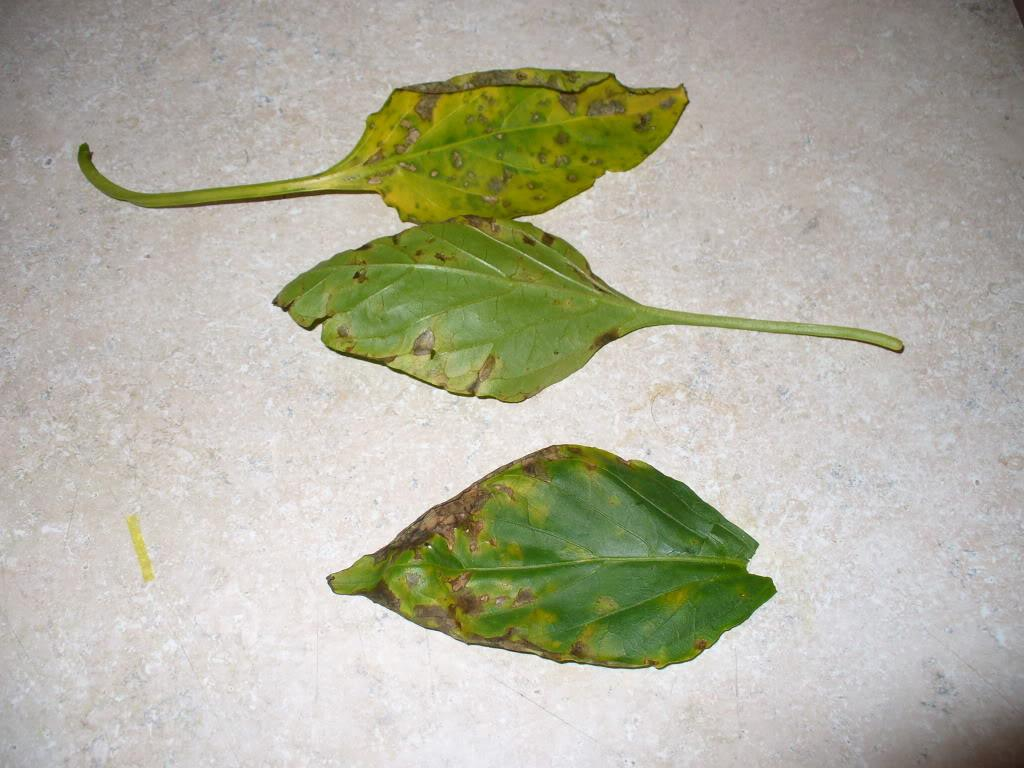Bell_pepper leaf: (290, 441, 787, 684), (260, 219, 685, 407), (300, 55, 706, 230)
